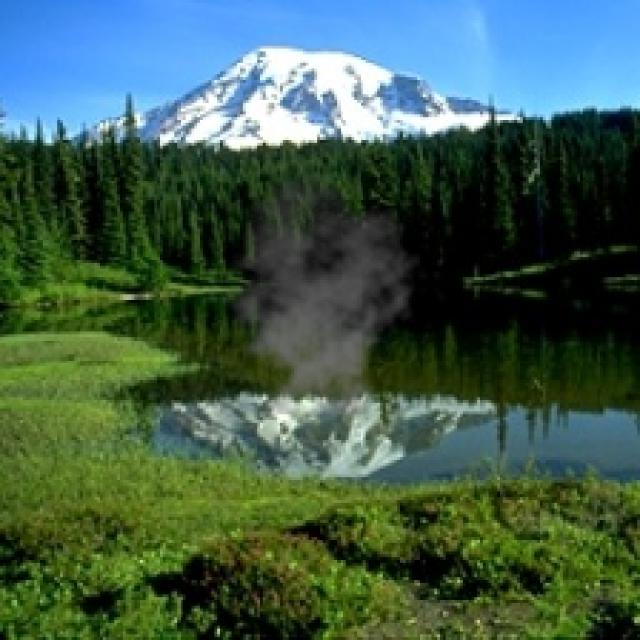smoke: (208, 172, 423, 414)
